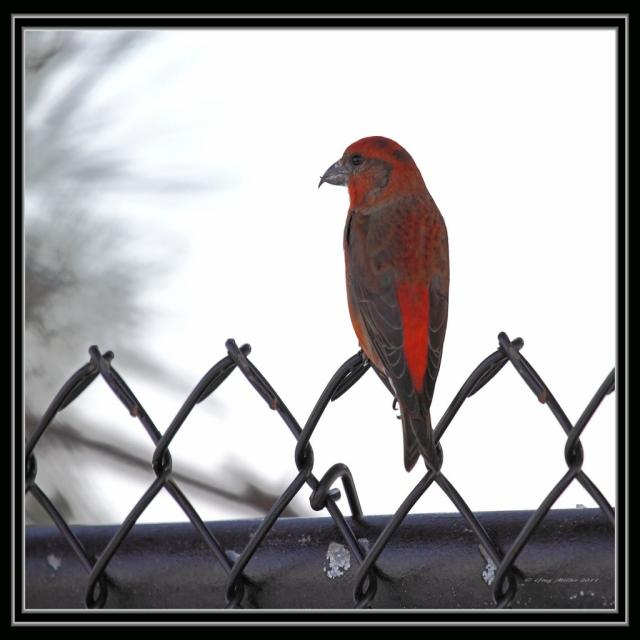bird: (309, 132, 468, 474)
